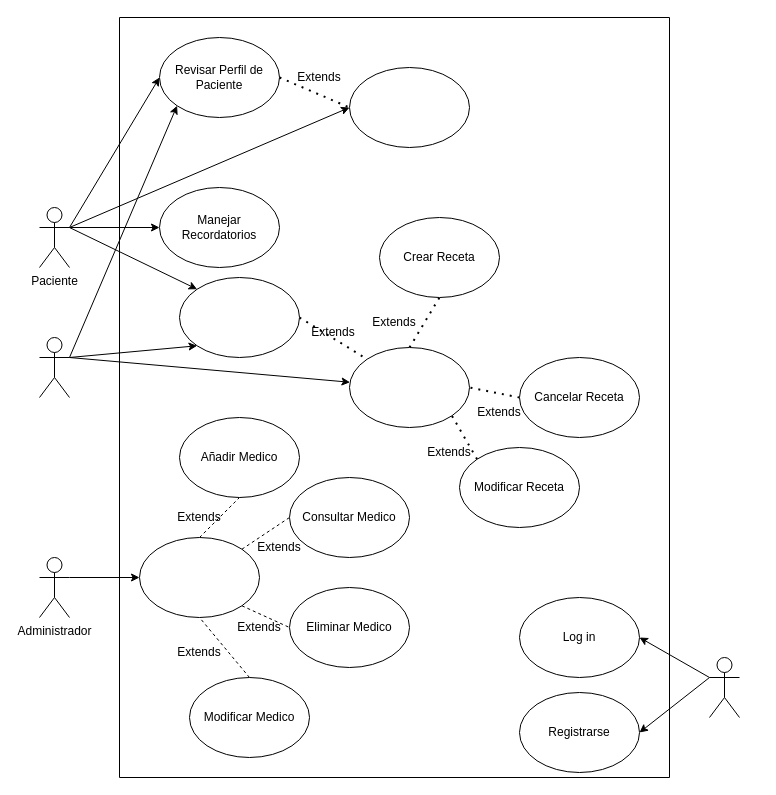
This 776x795 diagram has some shape labels left out. Each missing label, with the box of its shape:
Administrar Medicos: (138, 536, 260, 618)
Administrar Recetas: (348, 346, 470, 428)
Editar Perfil: (348, 66, 470, 148)
Medico: (38, 336, 70, 398)
Revisar Receta: (178, 276, 300, 358)
Usuario no registrado: (708, 656, 740, 718)
